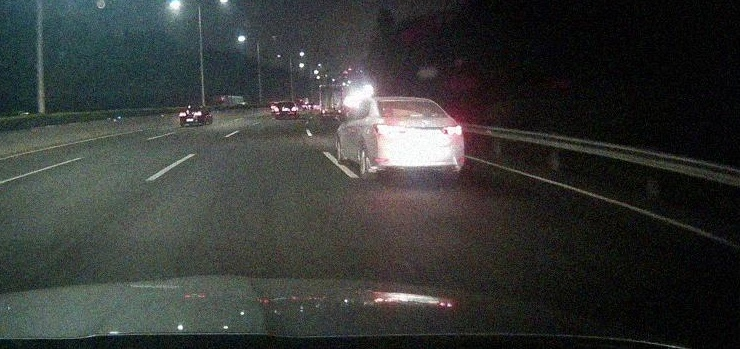L_light: (374, 124, 404, 134)
R_light: (441, 125, 462, 135)
T_light: (399, 101, 412, 103)
night-no: (371, 97, 465, 183)
